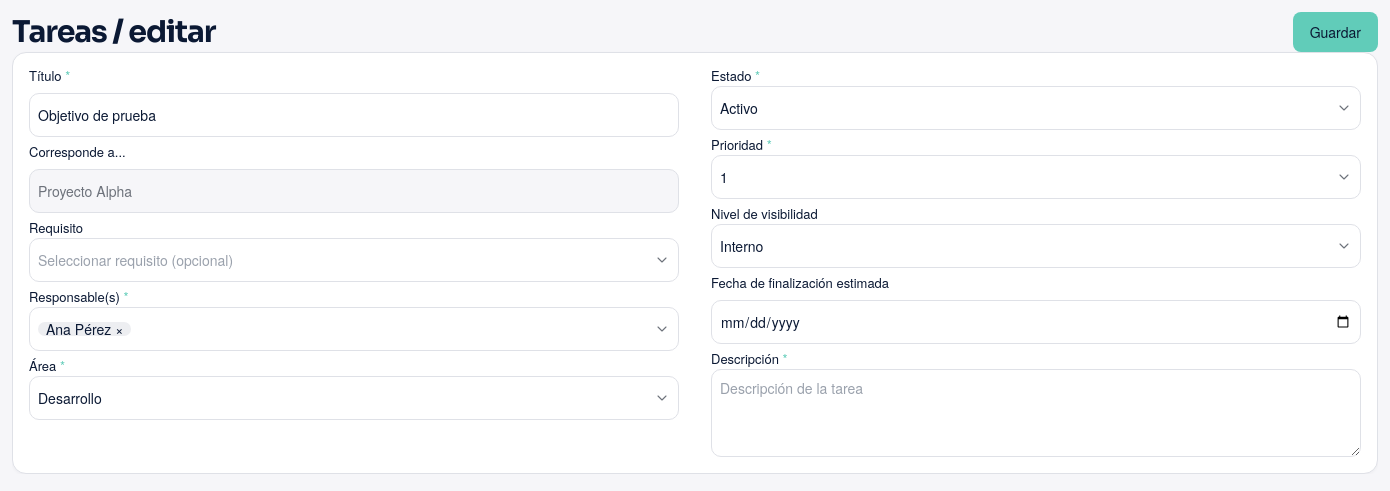
Test case: Objectives edit/[id]/page — campo Requisito (AC-7, AC-9) › TS-6: selector "Requisito" incluye la opción "Sin requisito"
Step 1. Click the dropdown labelled "requisito" → (136, 260), box [29,238,679,282]
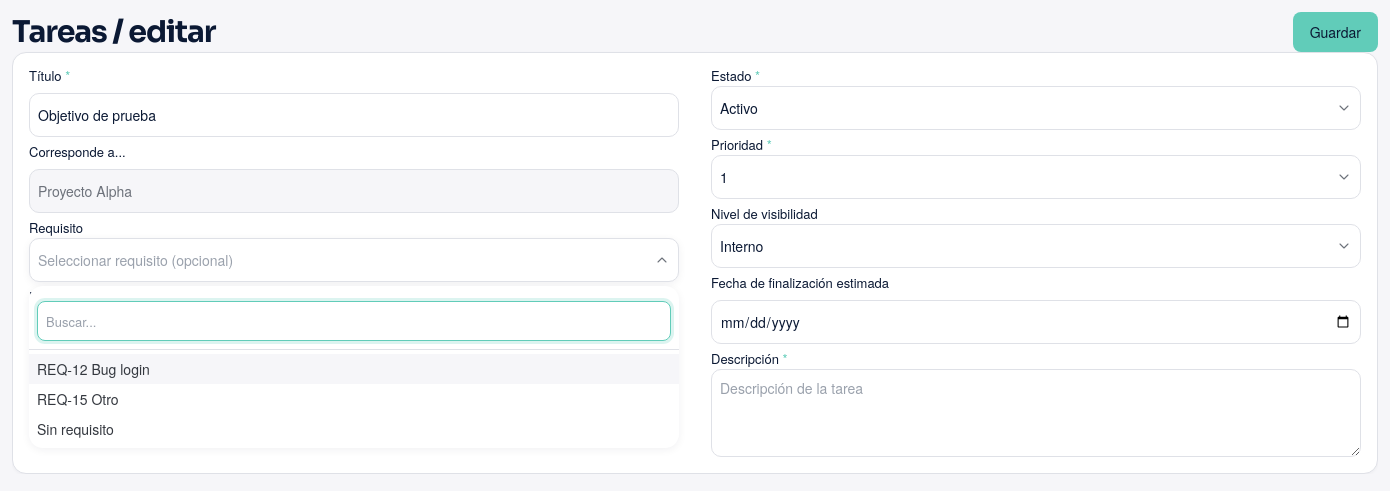
Result: the option "Sin requisito" is shown at [37,419,114,439]
